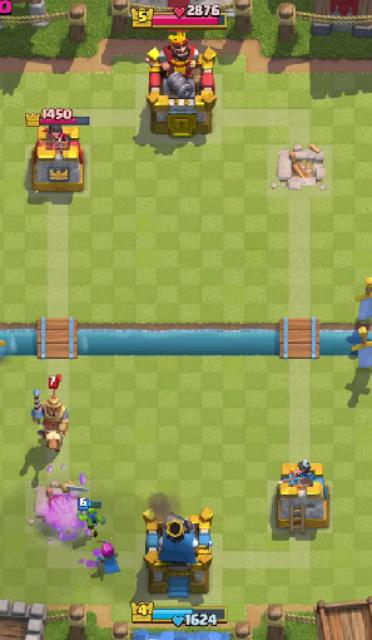ally_melee: (77, 497, 107, 537), (97, 539, 123, 575)
enemy_melee: (32, 375, 71, 455)
